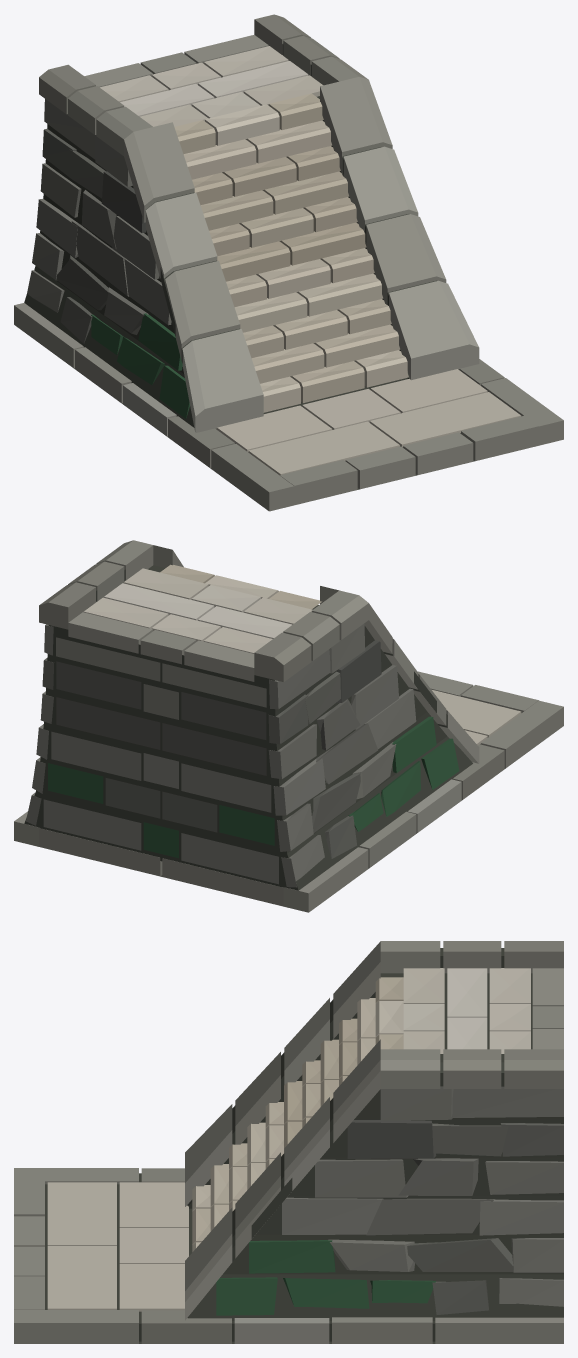
File: terrace-stone-stair-494ef8.glb
The picture shows the model from 3 angles, top to bottom: view 1: azimuth 30°, elevation 25°; view 2: azimuth 150°, elevation 25°; view 3: azimuth 270°, elevation 25°; orthographic projection. The views are drawn at different scales.
Visible parts, largest first — view 1: terrace-stone-stair-mesh; view 2: terrace-stone-stair-mesh; view 3: terrace-stone-stair-mesh.
Boxes of the visible parts, <box> form: terrace-stone-stair-mesh: <box>14,14,563,511</box>; terrace-stone-stair-mesh: <box>14,540,563,912</box>; terrace-stone-stair-mesh: <box>14,941,563,1343</box>.
Size of the model in its own units: 4 by 3.2 by 6.
